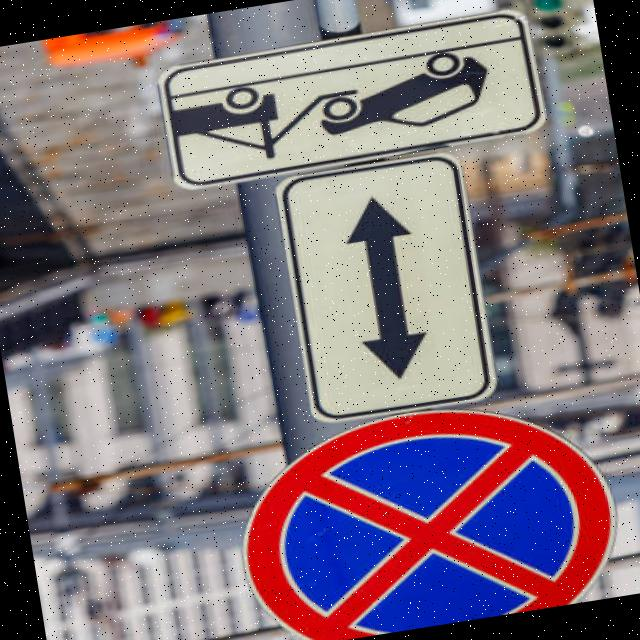no_parking: (211, 375, 640, 640)
